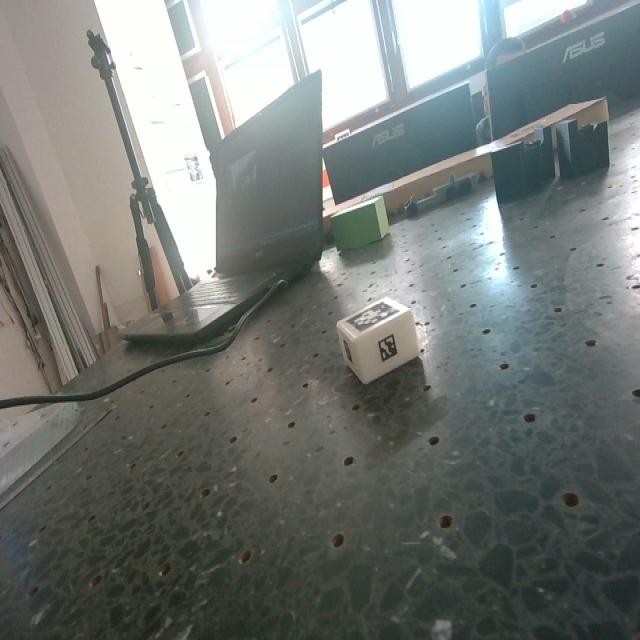Cube: (336, 300, 420, 387)
